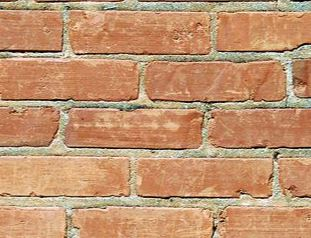brick: (68, 7, 212, 56), (145, 58, 289, 104), (64, 106, 205, 152), (136, 156, 274, 199), (1, 60, 141, 102), (1, 155, 131, 200), (73, 202, 215, 237), (209, 106, 311, 149), (215, 9, 311, 53), (218, 203, 311, 237), (1, 9, 65, 54), (1, 105, 61, 146), (1, 205, 69, 237)
